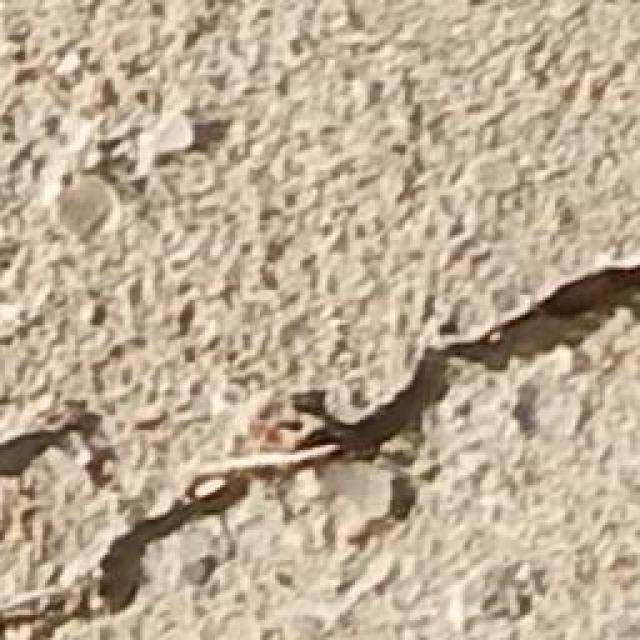concrete-crack: (1, 251, 640, 640), (0, 404, 119, 500)
